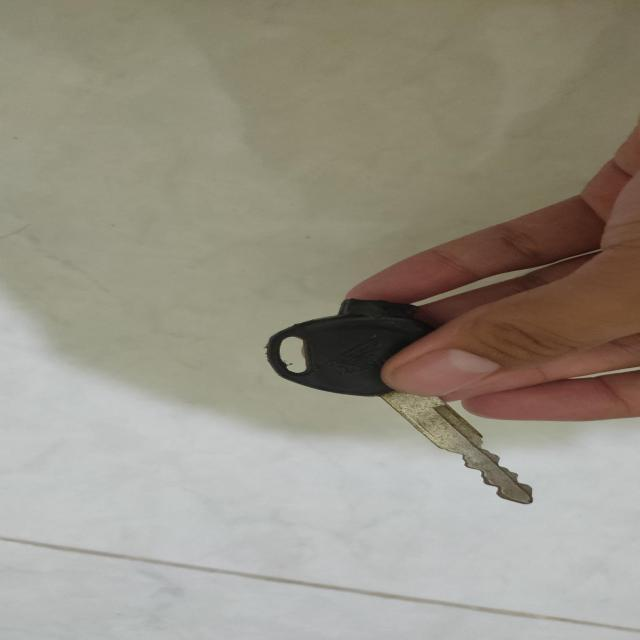kunci_motor: (247, 294, 555, 510)
